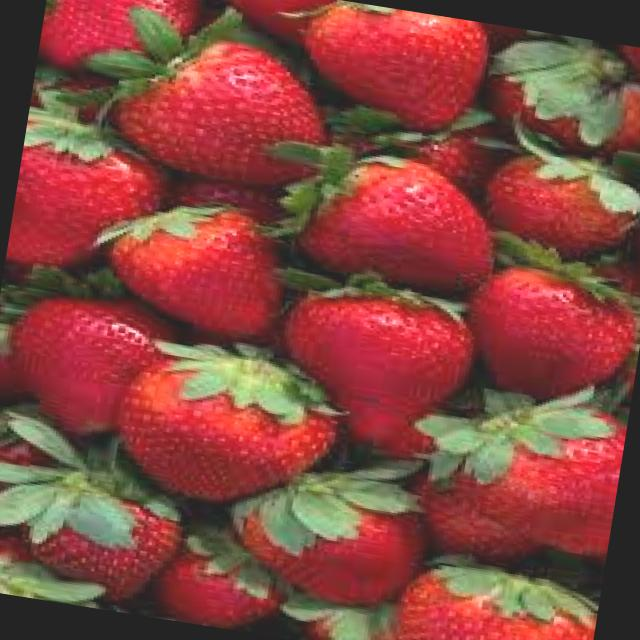tofu: (89, 316, 368, 546), (104, 22, 340, 195), (283, 142, 502, 300), (95, 188, 296, 345), (224, 466, 431, 614), (456, 255, 640, 417), (283, 0, 488, 138), (13, 476, 186, 610)
